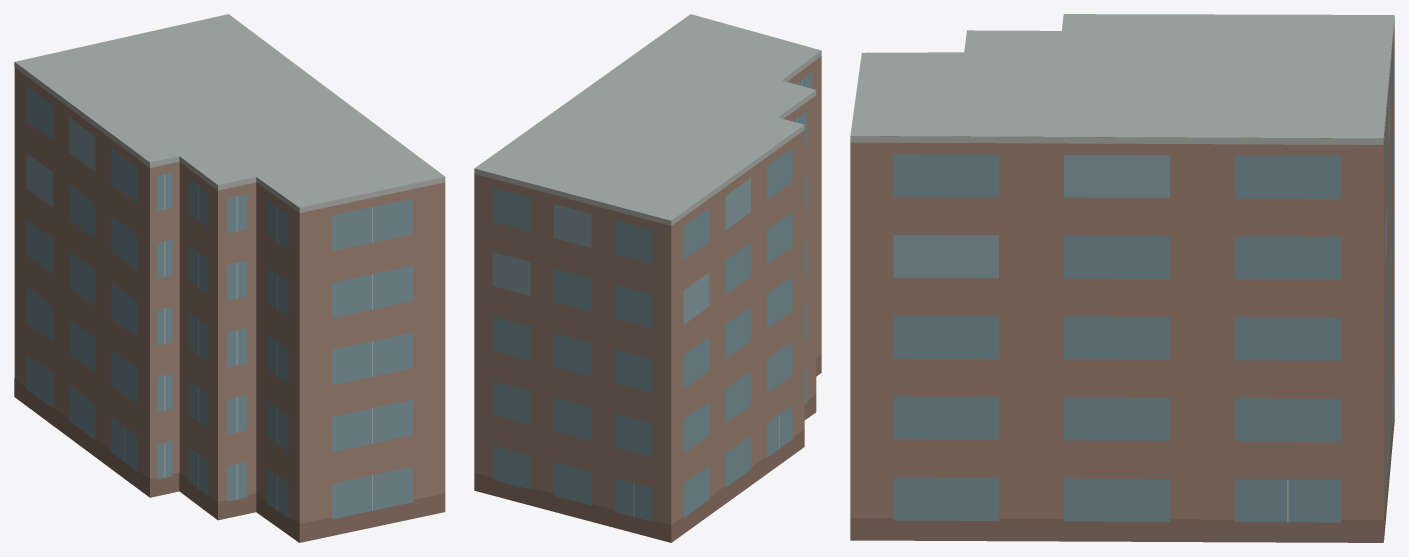
File: survey-upis-32757606.glb
3 renders of one model, left to right at view 1: azimuth 30°, elevation 25°; view 2: azimuth 150°, elevation 25°; view 3: azimuth 270°, elevation 25°, orthographic. The views are drawn at different scales.
Visible parts, largest first — view 1: survey-upis-32757606.tmp; view 2: survey-upis-32757606.tmp; view 3: survey-upis-32757606.tmp.
Boxes of the visible parts, x1,y1,x2,y2 form: survey-upis-32757606.tmp: (14,14,445,542); survey-upis-32757606.tmp: (474,14,821,542); survey-upis-32757606.tmp: (850,14,1394,542).
Bounding box in the file's own units: 9.9 × 15 × 18.3.
